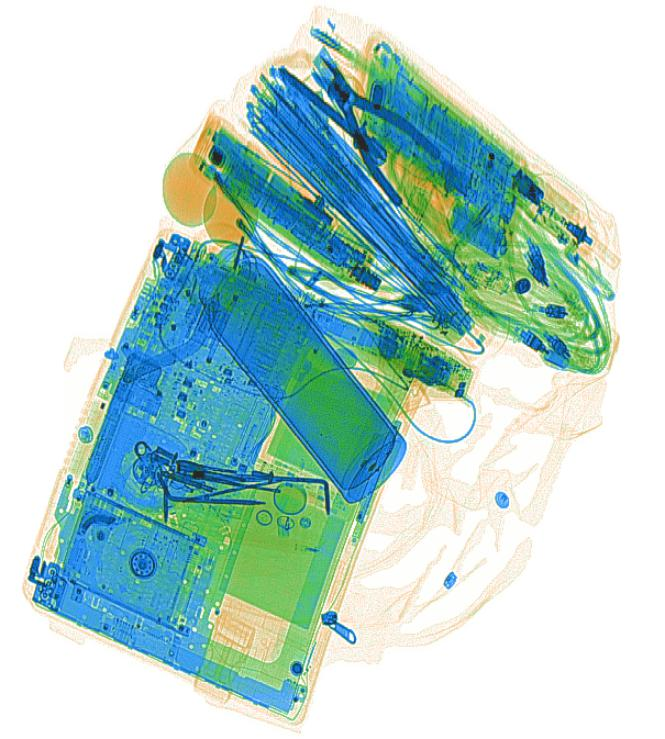battery: (447, 194, 511, 263)
